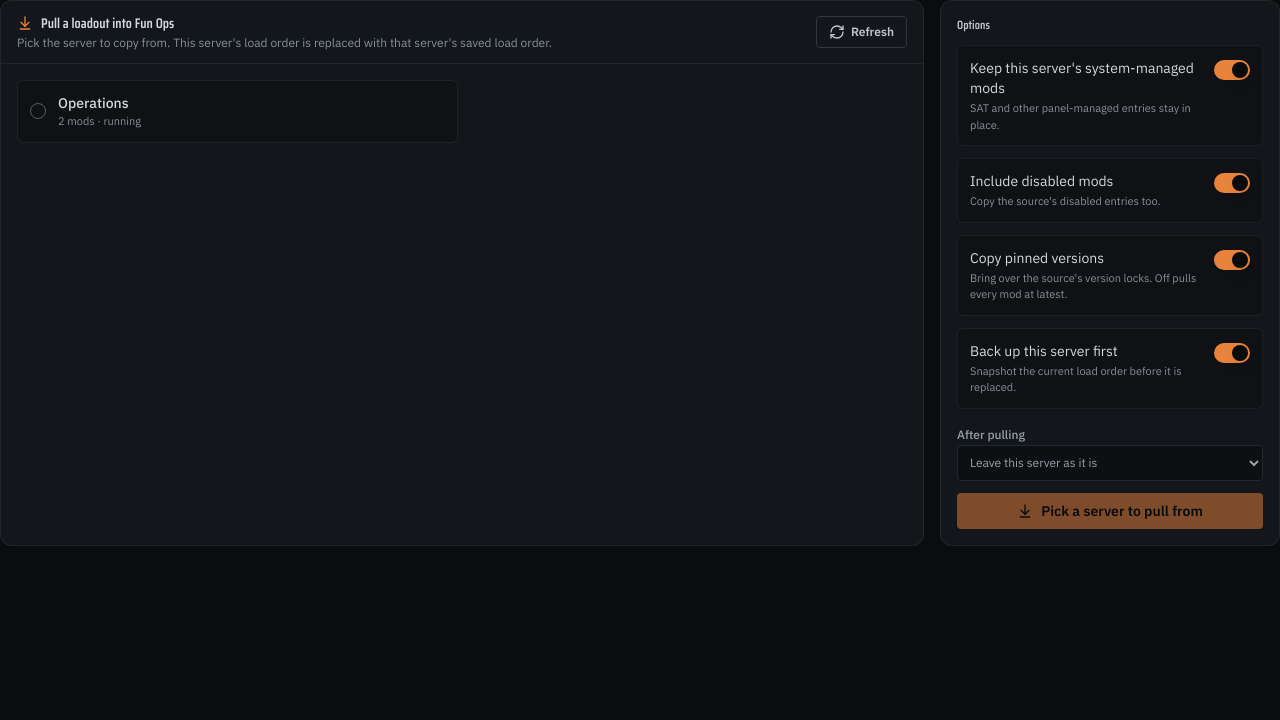
Scenario: MirrorPullPanel › previews the change and warns when the scenario mod would be dropped
Click the radio button labelled "Operations 2 mods · running": (93, 103) [17,80,458,142]
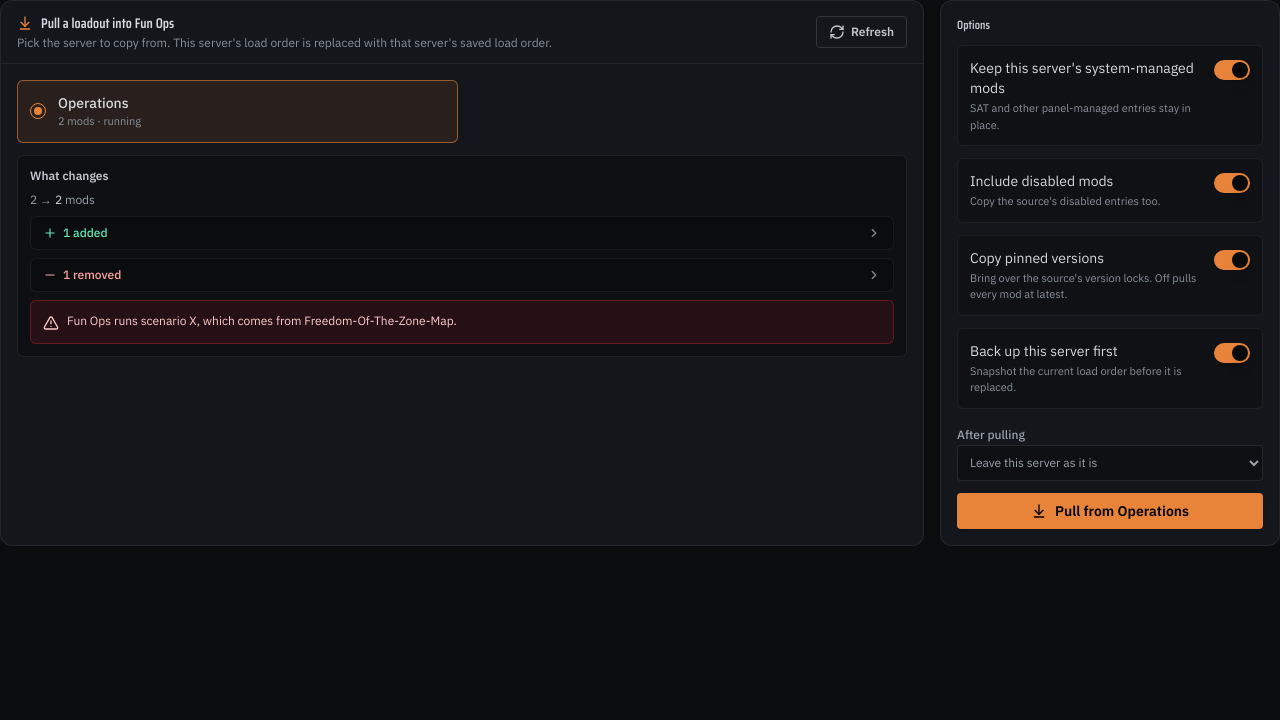
Check: the text "1 added" is shown, box [43,224,108,240]
Check: the text "1 removed" is shown, box [43,266,121,282]
Check: the text "comes from Freedom-Of-The-Zone-Map" is shown, box [67,312,457,328]
